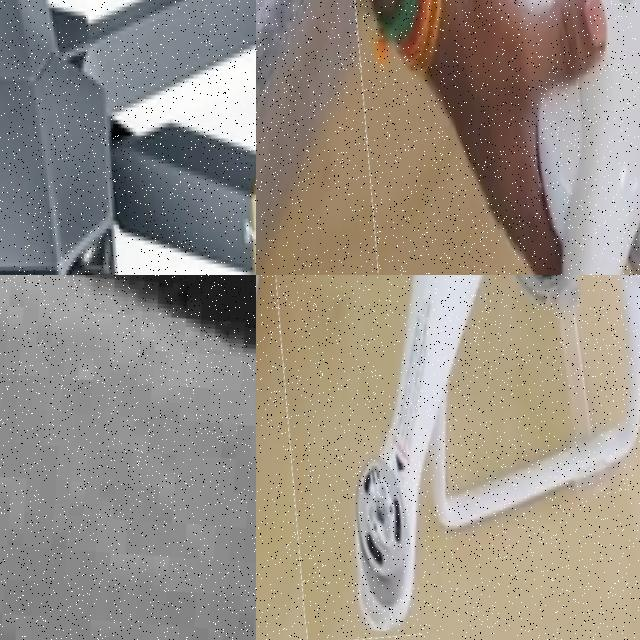drone: (256, 275, 640, 640), (324, 0, 640, 275), (0, 0, 256, 275)
